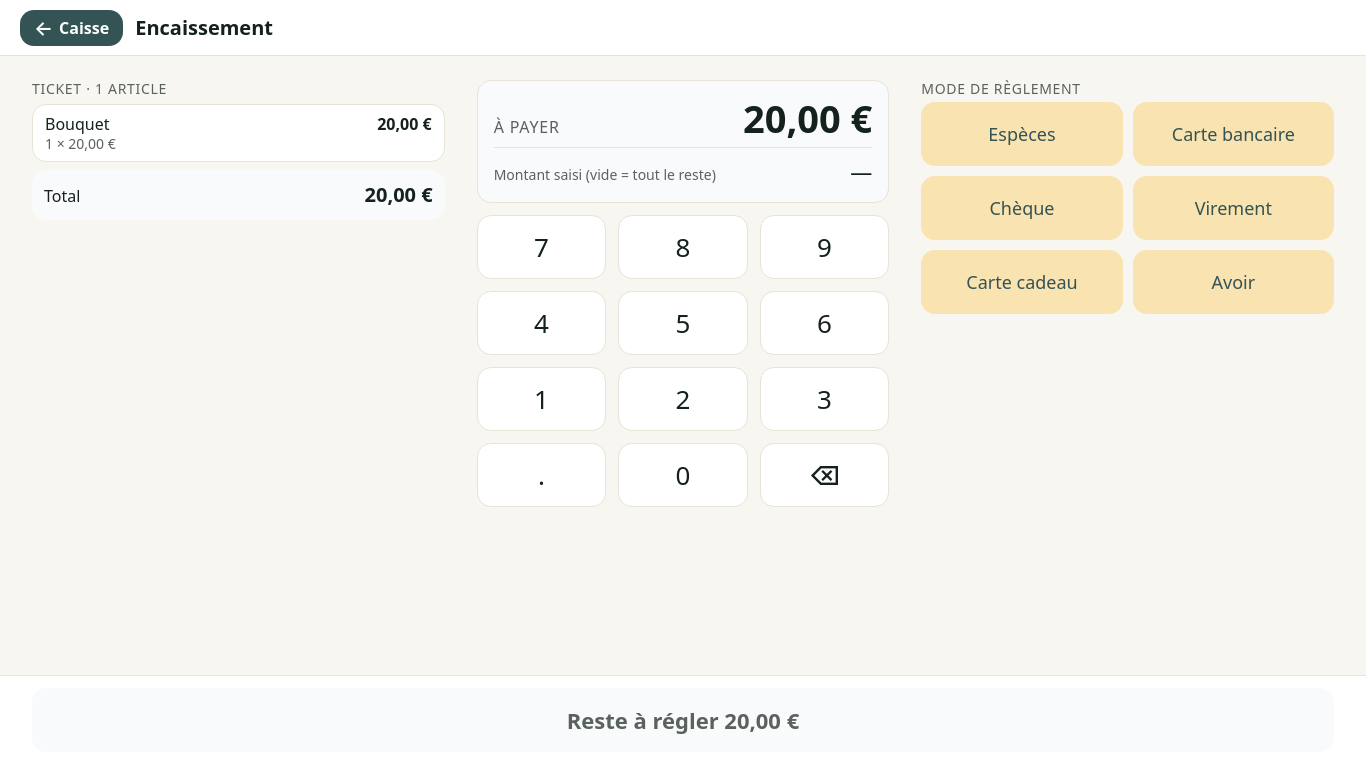
it: PaymentModal — échec de validation › affiche "Réessayer" au lieu de rester bloqué sans action possible
The image size is (1366, 768).
Click the button "Carte bancaire": point(1233, 134) 1133,102 -> 1334,166
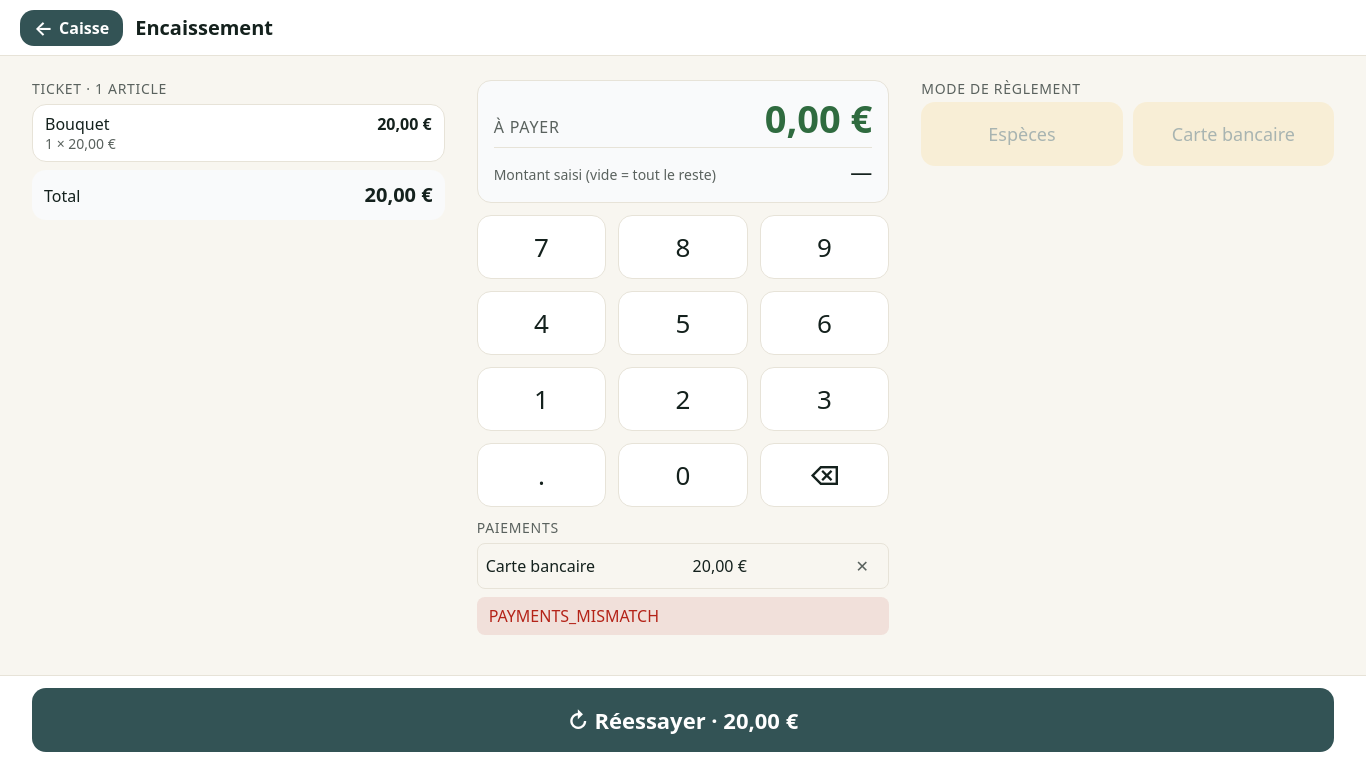
Expected: the button "↻ Réessayer · 20,00 €" is shown, 32,688 -> 1334,752
